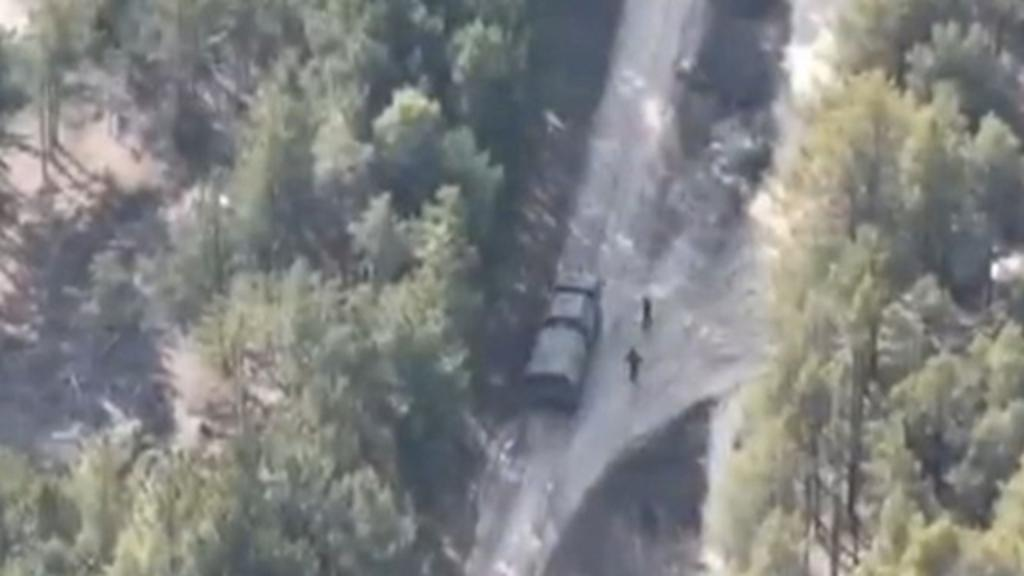TRUCK: (518, 322, 592, 412), (546, 262, 604, 338)
